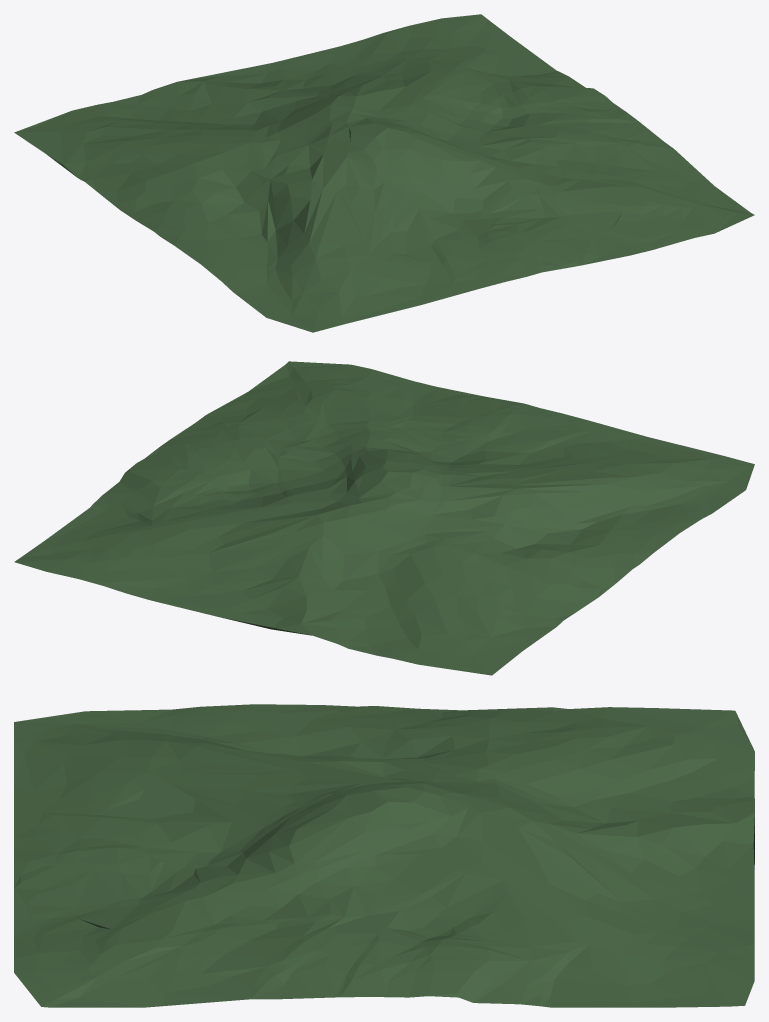
Rendered from SM_landscape_03.fbx.
3 views of the same model, one above another, from view 1: azimuth 30°, elevation 25°; view 2: azimuth 150°, elevation 25°; view 3: azimuth 270°, elevation 25° (orthographic). The views are drawn at different scales.
Parts seen in each view (by area): view 1: landscape_03; view 2: landscape_03; view 3: landscape_03.
Boxes of the visible parts, box(x1,y1,x2,y2) form: landscape_03: box(14, 14, 754, 332); landscape_03: box(14, 361, 754, 675); landscape_03: box(14, 704, 754, 1007).
Bounding box in the file's own units: 994 × 92.87 × 1049.
